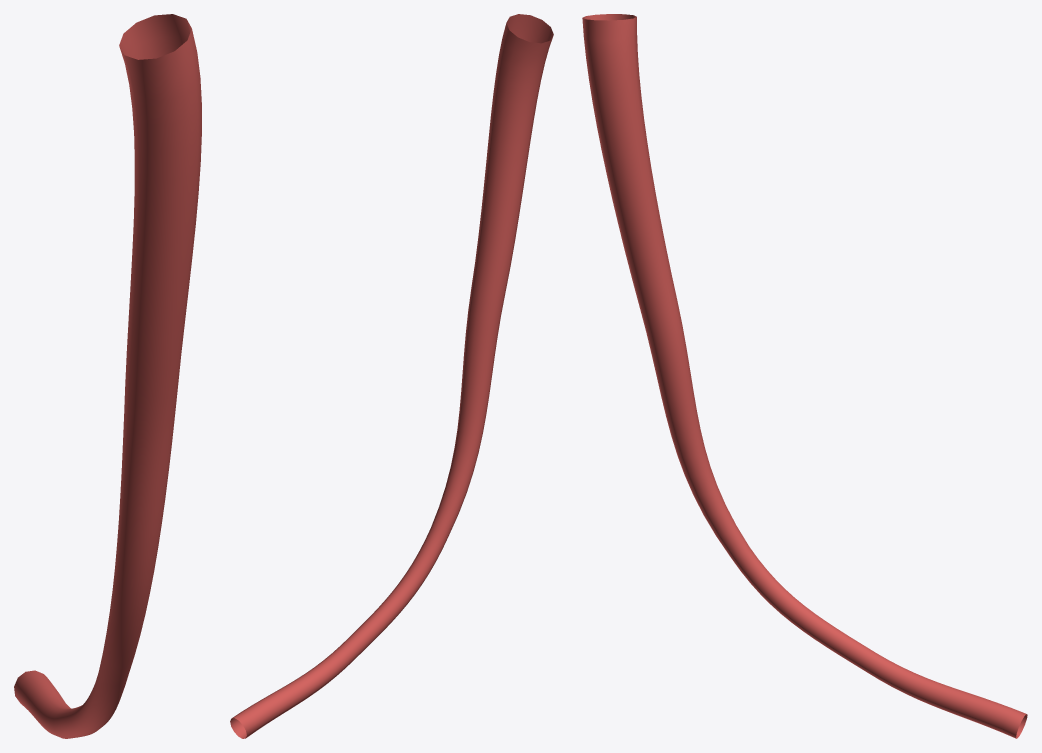
3 renders of one model, left to right at view 1: azimuth 30°, elevation 25°; view 2: azimuth 150°, elevation 25°; view 3: azimuth 270°, elevation 25°, orthographic. The views are drawn at different scales.
Parts seen in each view (by area): view 1: 右侧眶下动脉; view 2: 右侧眶下动脉; view 3: 右侧眶下动脉.
Part boxes in pixels (left/top/right/bottom): 右侧眶下动脉: left=14, top=14, right=201, bottom=738; 右侧眶下动脉: left=230, top=14, right=553, bottom=738; 右侧眶下动脉: left=582, top=14, right=1027, bottom=738.
Size of the model in its own units: 0.00934 by 0.0399 by 0.024.
